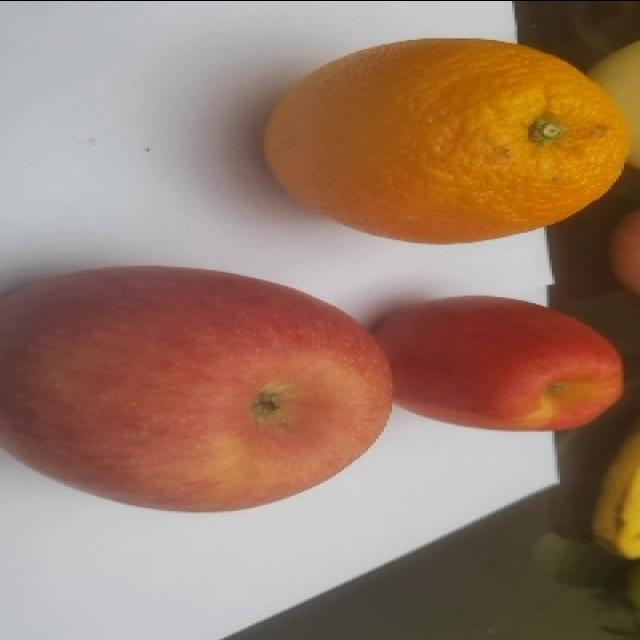Apple: (0, 263, 393, 513), (370, 293, 624, 432)
Orange: (262, 36, 630, 244)
